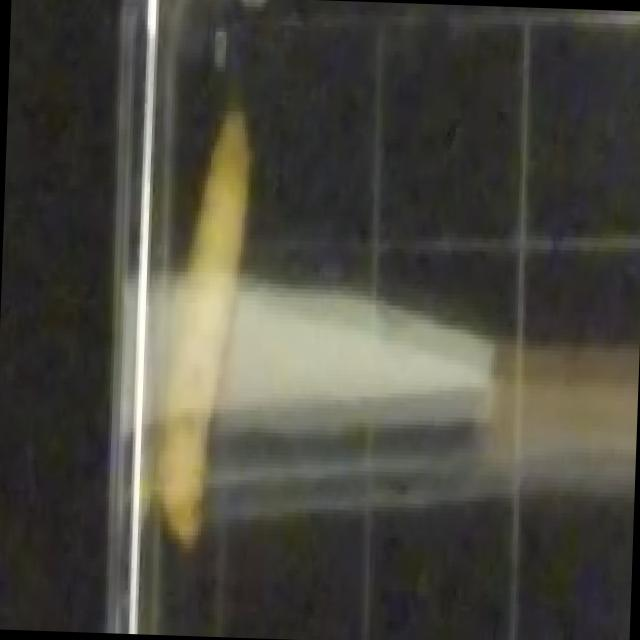larva: (148, 89, 254, 562)
